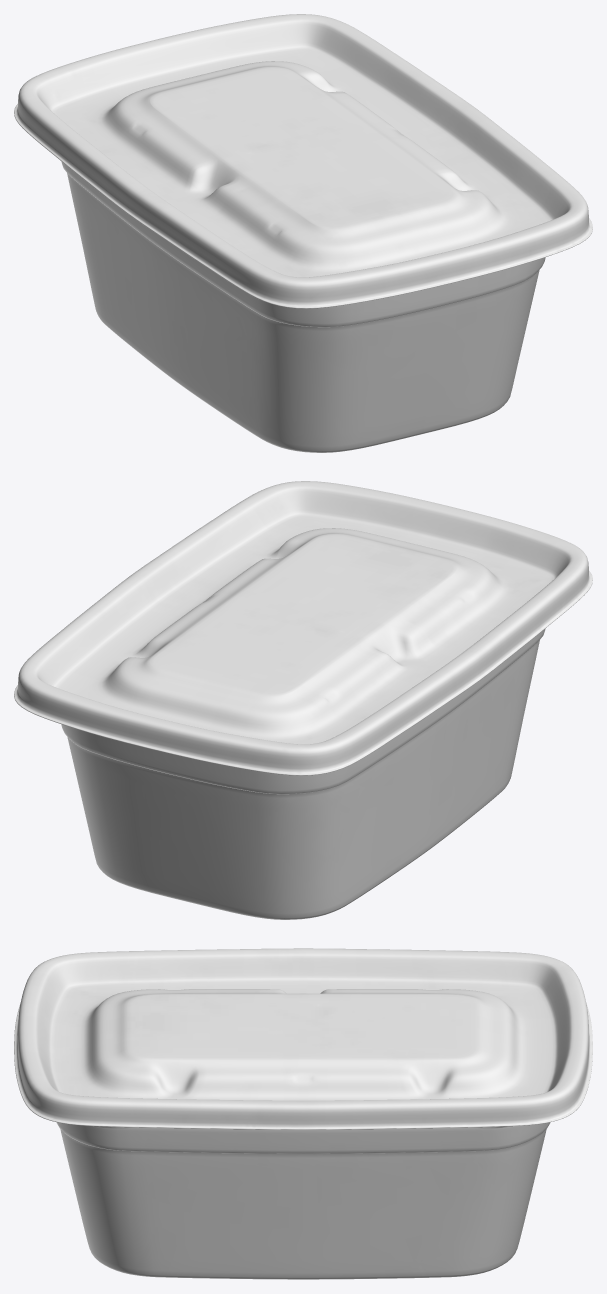
Rendered from cfh-900-saladbox-lid-clearn-transformed.glb.
The picture shows the model from 3 angles, top to bottom: view 1: azimuth 30°, elevation 25°; view 2: azimuth 150°, elevation 25°; view 3: azimuth 270°, elevation 25°; orthographic projection. The views are drawn at different scales.
Visible parts, largest first — view 1: Bottom; view 2: Bottom; view 3: Bottom.
Boxes of the visible parts, <box> form: Bottom: <box>14,14,592,452</box>; Bottom: <box>14,481,592,919</box>; Bottom: <box>14,948,592,1279</box>.
Size of the model in its own units: 0.1281 by 0.0718 by 0.192.
1 material, 1 textured.
